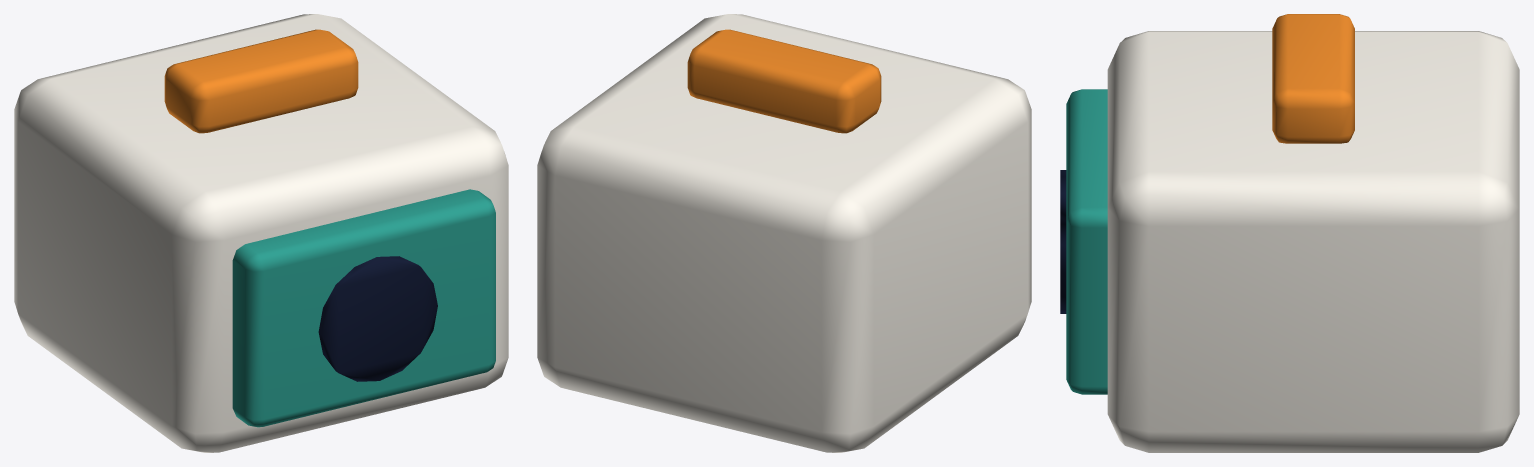
Rendered from Fx_Co2Filter_New.fbx.
3 renders of one model, left to right at view 1: azimuth 30°, elevation 25°; view 2: azimuth 150°, elevation 25°; view 3: azimuth 270°, elevation 25°, orthographic. The views are drawn at different scales.
Visible parts, largest first — view 1: Fx_Co2Filter_New.Body, Fx_Co2Filter_New.Grille, Fx_Co2Filter_New.Handle, Fx_Co2Filter_New.Port; view 2: Fx_Co2Filter_New.Body, Fx_Co2Filter_New.Handle; view 3: Fx_Co2Filter_New.Body, Fx_Co2Filter_New.Grille, Fx_Co2Filter_New.Handle, Fx_Co2Filter_New.Port.
Part boxes in pixels (box(x1,y1,x2,y2)): Fx_Co2Filter_New.Body: box(14, 14, 508, 452); Fx_Co2Filter_New.Grille: box(232, 189, 495, 427); Fx_Co2Filter_New.Handle: box(164, 29, 358, 133); Fx_Co2Filter_New.Port: box(318, 256, 437, 381); Fx_Co2Filter_New.Body: box(537, 14, 1031, 452); Fx_Co2Filter_New.Handle: box(687, 29, 881, 133); Fx_Co2Filter_New.Body: box(1107, 31, 1519, 452); Fx_Co2Filter_New.Grille: box(1066, 89, 1107, 394); Fx_Co2Filter_New.Handle: box(1272, 14, 1354, 143); Fx_Co2Filter_New.Port: box(1060, 170, 1066, 313).
Bounding box in the file's own units: 0.2 × 0.177 × 0.223.
Materials: 1 (1 with a texture image).
